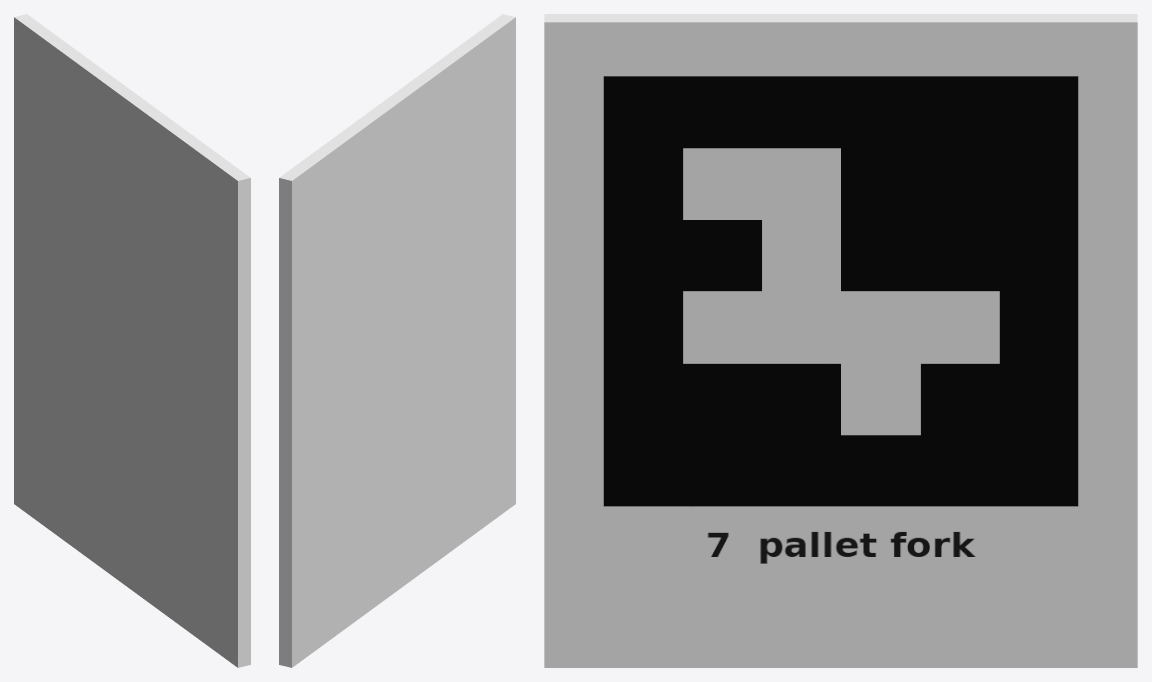
File: tag_pallet_fork.dae
The picture shows the model from 3 angles, left to right: view 1: azimuth 30°, elevation 25°; view 2: azimuth 150°, elevation 25°; view 3: azimuth 270°, elevation 25°; orthographic projection. The views are drawn at different scales.
Visible parts, largest first — view 1: tag_pallet_fork; view 2: tag_pallet_fork; view 3: tag_pallet_fork.
Boxes of the visible parts, box(x1,y1,x2,y2) form: tag_pallet_fork: box(14, 14, 250, 667); tag_pallet_fork: box(279, 14, 515, 667); tag_pallet_fork: box(544, 14, 1137, 667).
Bounding box in the file's own units: 0.01 × 0.3 × 0.36.
Materials: 1 (1 with a texture image).
